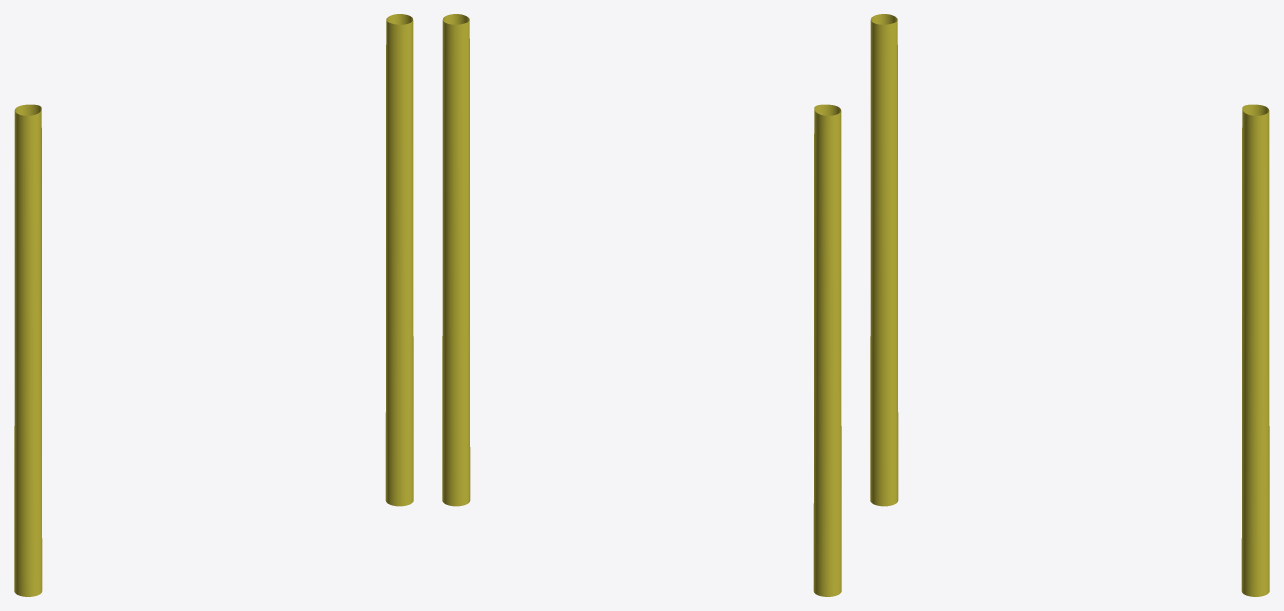
File: Gate (1).fbx
3 renders of one model, left to right at view 1: azimuth 30°, elevation 25°; view 2: azimuth 150°, elevation 25°; view 3: azimuth 330°, elevation 25°, orthographic.
Parts seen in each view (by area): view 1: gate; view 2: gate; view 3: gate.
Boxes of the visible parts, left/top/right/bottom form: gate: left=14, top=14, right=413, bottom=596; gate: left=442, top=14, right=841, bottom=596; gate: left=870, top=14, right=1269, bottom=596.
Bounding box in the file's own units: 1.9 × 2.21 × 0.1161.
